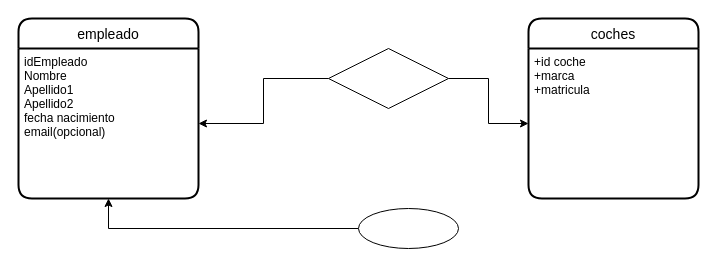
Image size: 716x266. Some labels were removed from this diagram. Here are the shapes that lost their labels. From the top down, the centre of each, then its label:
pixel 388 78: Asignar
pixel 408 228: Telefono
